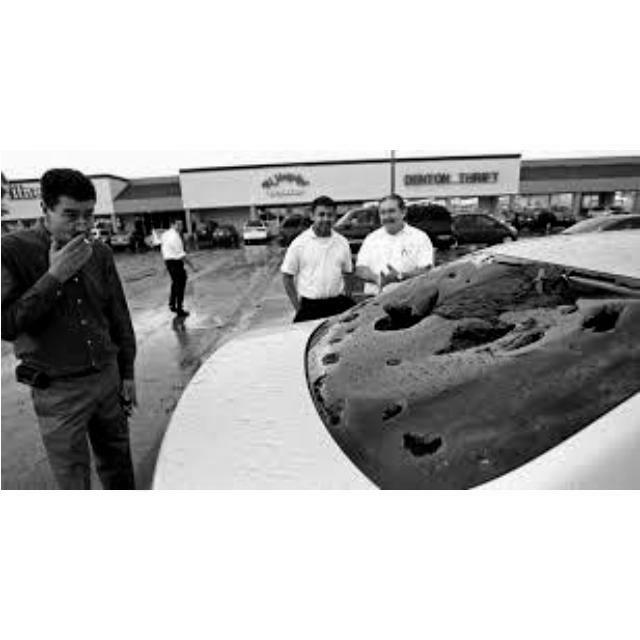Rear-windscreen-Damage: (314, 250, 594, 464)
